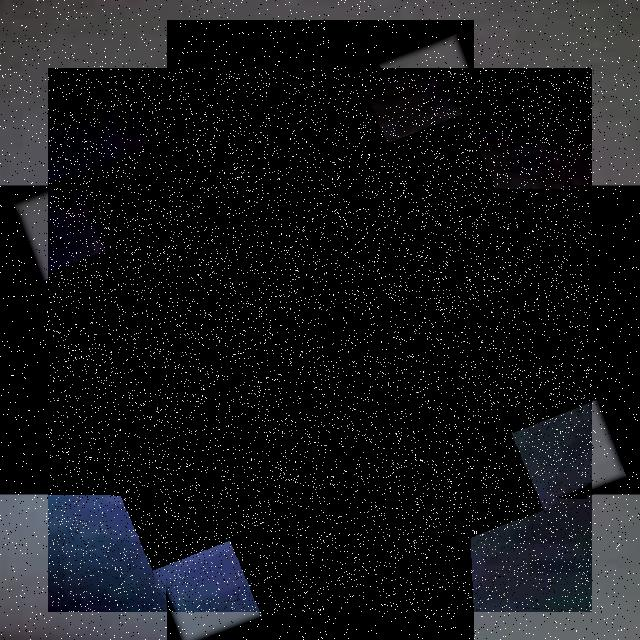lima puluh ribu rupiah: (48, 68, 592, 612)
